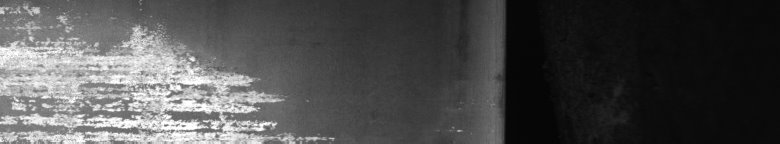kb: (4, 4, 284, 136)
